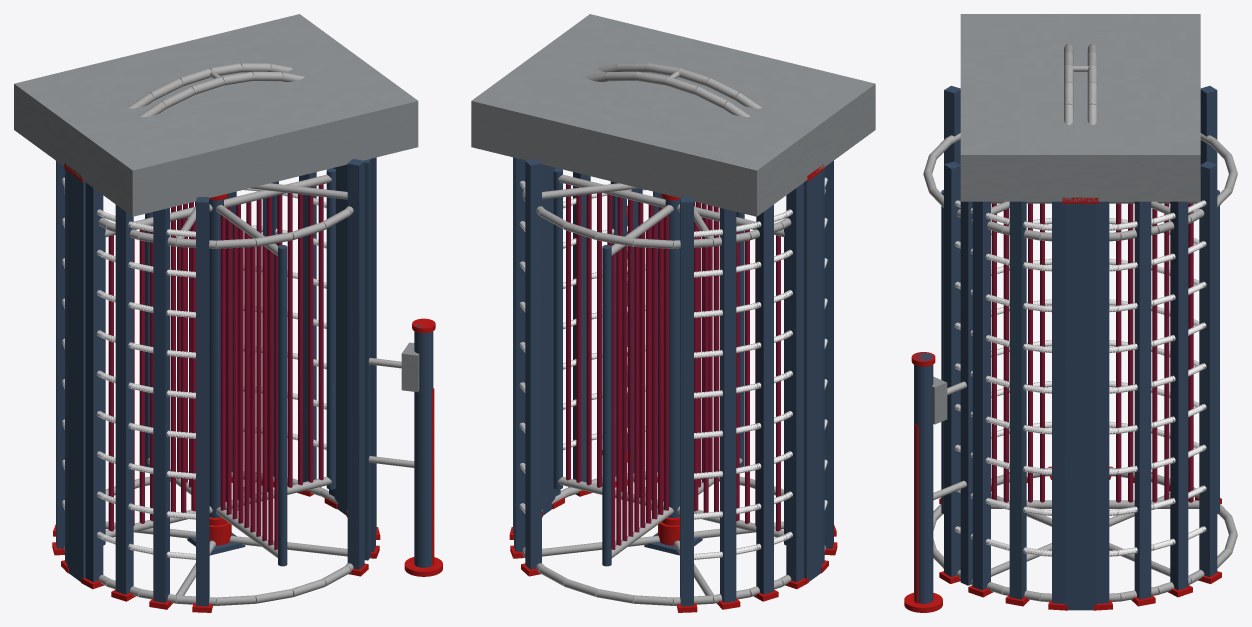
File: pictureX_0611_full_height_turnstile__1274.glb
3 views of the same model, side by side, from view 1: azimuth 30°, elevation 25°; view 2: azimuth 150°, elevation 25°; view 3: azimuth 270°, elevation 25° (orthographic).
Parts seen in each view (by area): view 1: guard_frame::header_form__arched_header__housing_slab, guard_frame::header_form__arched_header__arch_post_0, guard_frame::guard_frame__arc_rail_cage__upright_0, guard_frame::guard_frame__arc_rail_cage__upright_12, guard_frame::guard_frame__arc_rail_cage__upright_13, guard_frame::guard_frame__arc_rail_cage__upright_14, guard_frame::guard_frame__arc_rail_cage__upright_15, guard_frame::access_control__standalone_reader_post__post, guard_frame::header_form__arched_header__arch_post_1, rotor::rotor__spindle, guard_frame::guard_frame__arc_rail_cage__upright_10, rotor::rotor_form__vertical_bar_rotor__wing_stile_3 (+39 smaller); view 2: guard_frame::header_form__arched_header__housing_slab, guard_frame::header_form__arched_header__arch_post_0, guard_frame::guard_frame__arc_rail_cage__upright_7, guard_frame::guard_frame__arc_rail_cage__upright_11, guard_frame::guard_frame__arc_rail_cage__upright_10, guard_frame::guard_frame__arc_rail_cage__upright_9, guard_frame::guard_frame__arc_rail_cage__upright_8, guard_frame::guard_frame__arc_rail_cage__upright_6, guard_frame::header_form__arched_header__arch_post_1, guard_frame::guard_frame__arc_rail_cage__upright_13, rotor::rotor__spindle, rotor::rotor_form__vertical_bar_rotor__wing_stile_1 (+37 smaller); view 3: guard_frame::header_form__arched_header__housing_slab, guard_frame::header_form__arched_header__arch_post_1, guard_frame::guard_frame__arc_rail_cage__upright_7, guard_frame::guard_frame__arc_rail_cage__upright_1, guard_frame::guard_frame__arc_rail_cage__upright_6, guard_frame::guard_frame__arc_rail_cage__upright_2, guard_frame::guard_frame__arc_rail_cage__upright_5, guard_frame::guard_frame__arc_rail_cage__upright_0, guard_frame::guard_frame__arc_rail_cage__upright_4, guard_frame::guard_frame__arc_rail_cage__upright_3, guard_frame::guard_frame__access_strap, guard_frame::access_control__standalone_reader_post__post (+16 smaller).
Part boxes in pixels (bbox=[...]): guard_frame::header_form__arched_header__housing_slab: bbox=[14, 14, 418, 216]; guard_frame::header_form__arched_header__arch_post_0: bbox=[67, 171, 85, 581]; guard_frame::guard_frame__arc_rail_cage__upright_0: bbox=[347, 159, 364, 569]; guard_frame::guard_frame__arc_rail_cage__upright_12: bbox=[85, 183, 103, 582]; guard_frame::guard_frame__arc_rail_cage__upright_13: bbox=[115, 204, 133, 594]; guard_frame::guard_frame__arc_rail_cage__upright_14: bbox=[153, 208, 169, 602]; guard_frame::guard_frame__arc_rail_cage__upright_15: bbox=[196, 197, 209, 606]; guard_frame::access_control__standalone_reader_post__post: bbox=[414, 322, 433, 567]; guard_frame::header_form__arched_header__arch_post_1: bbox=[334, 164, 347, 515]; rotor::rotor__spindle: bbox=[209, 199, 223, 517]; guard_frame::guard_frame__arc_rail_cage__upright_10: bbox=[56, 161, 64, 548]; rotor::rotor_form__vertical_bar_rotor__wing_stile_3: bbox=[278, 245, 287, 566]; guard_frame::header_form__arched_header__housing_slab: bbox=[471, 14, 875, 216]; guard_frame::header_form__arched_header__arch_post_0: bbox=[804, 171, 822, 581]; guard_frame::guard_frame__arc_rail_cage__upright_7: bbox=[525, 159, 541, 569]; guard_frame::guard_frame__arc_rail_cage__upright_11: bbox=[786, 182, 803, 582]; guard_frame::guard_frame__arc_rail_cage__upright_10: bbox=[756, 204, 773, 594]; guard_frame::guard_frame__arc_rail_cage__upright_9: bbox=[720, 208, 736, 602]; guard_frame::guard_frame__arc_rail_cage__upright_8: bbox=[680, 197, 693, 606]; guard_frame::guard_frame__arc_rail_cage__upright_6: bbox=[514, 157, 525, 552]; guard_frame::header_form__arched_header__arch_post_1: bbox=[542, 164, 555, 515]; guard_frame::guard_frame__arc_rail_cage__upright_13: bbox=[824, 161, 833, 548]; rotor::rotor__spindle: bbox=[665, 199, 679, 517]; rotor::rotor_form__vertical_bar_rotor__wing_stile_1: bbox=[602, 245, 611, 566]; guard_frame::header_form__arched_header__housing_slab: bbox=[960, 14, 1200, 201]; guard_frame::header_form__arched_header__arch_post_1: bbox=[1064, 203, 1096, 610]; guard_frame::guard_frame__arc_rail_cage__upright_7: bbox=[1199, 161, 1217, 576]; guard_frame::guard_frame__arc_rail_cage__upright_1: bbox=[972, 201, 990, 590]; guard_frame::guard_frame__arc_rail_cage__upright_6: bbox=[1170, 201, 1188, 590]; guard_frame::guard_frame__arc_rail_cage__upright_2: bbox=[1009, 201, 1026, 599]; guard_frame::guard_frame__arc_rail_cage__upright_5: bbox=[1134, 201, 1151, 599]; guard_frame::guard_frame__arc_rail_cage__upright_0: bbox=[944, 161, 960, 577]; guard_frame::guard_frame__arc_rail_cage__upright_4: bbox=[1096, 201, 1109, 603]; guard_frame::guard_frame__arc_rail_cage__upright_3: bbox=[1052, 201, 1064, 603]; guard_frame::guard_frame__access_strap: bbox=[960, 201, 972, 585]; guard_frame::access_control__standalone_reader_post__post: bbox=[914, 353, 933, 603].
Size of the model in its own units: 1.57 by 2.44 by 1.55.
Materials: 7 (7 with a texture image).
